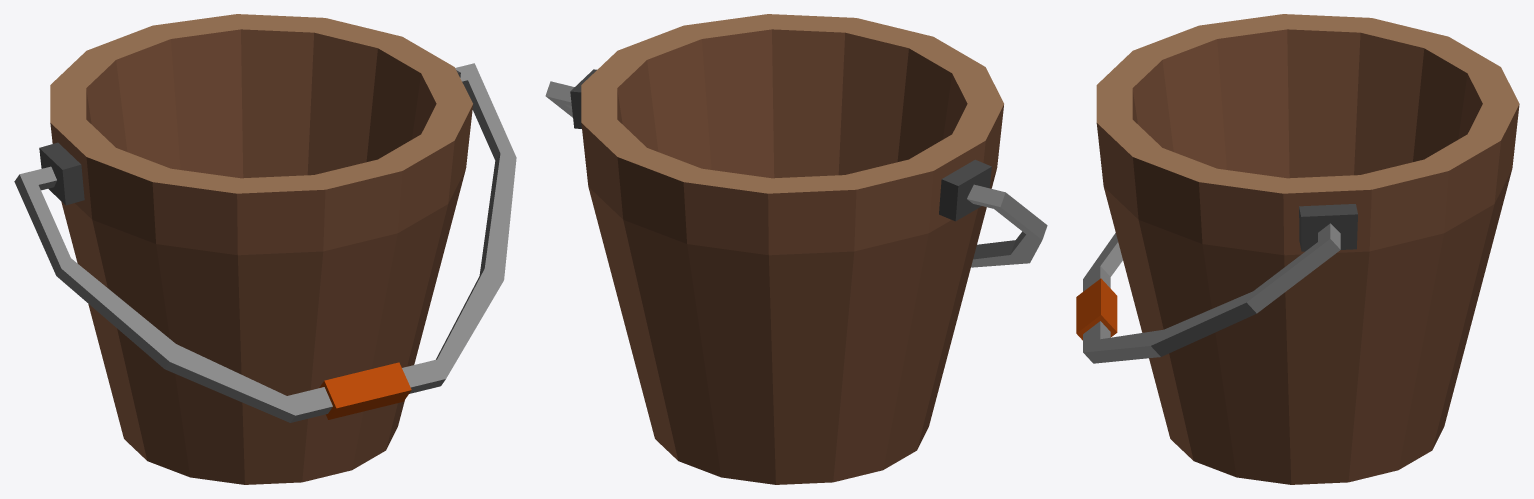
The model's file is Eimer.fbx.
The picture shows the model from 3 angles, left to right: view 1: azimuth 30°, elevation 25°; view 2: azimuth 150°, elevation 25°; view 3: azimuth 270°, elevation 25°; orthographic projection.
Parts seen in each view (by area): view 1: Cube.006; view 2: Cube.006; view 3: Cube.006.
Boxes of the visible parts, x1,y1,x2,y2 form: Cube.006: [14, 14, 516, 484]; Cube.006: [545, 14, 1047, 484]; Cube.006: [1076, 14, 1519, 484].
Bounding box in the file's own units: 106 × 72 × 89.55.
